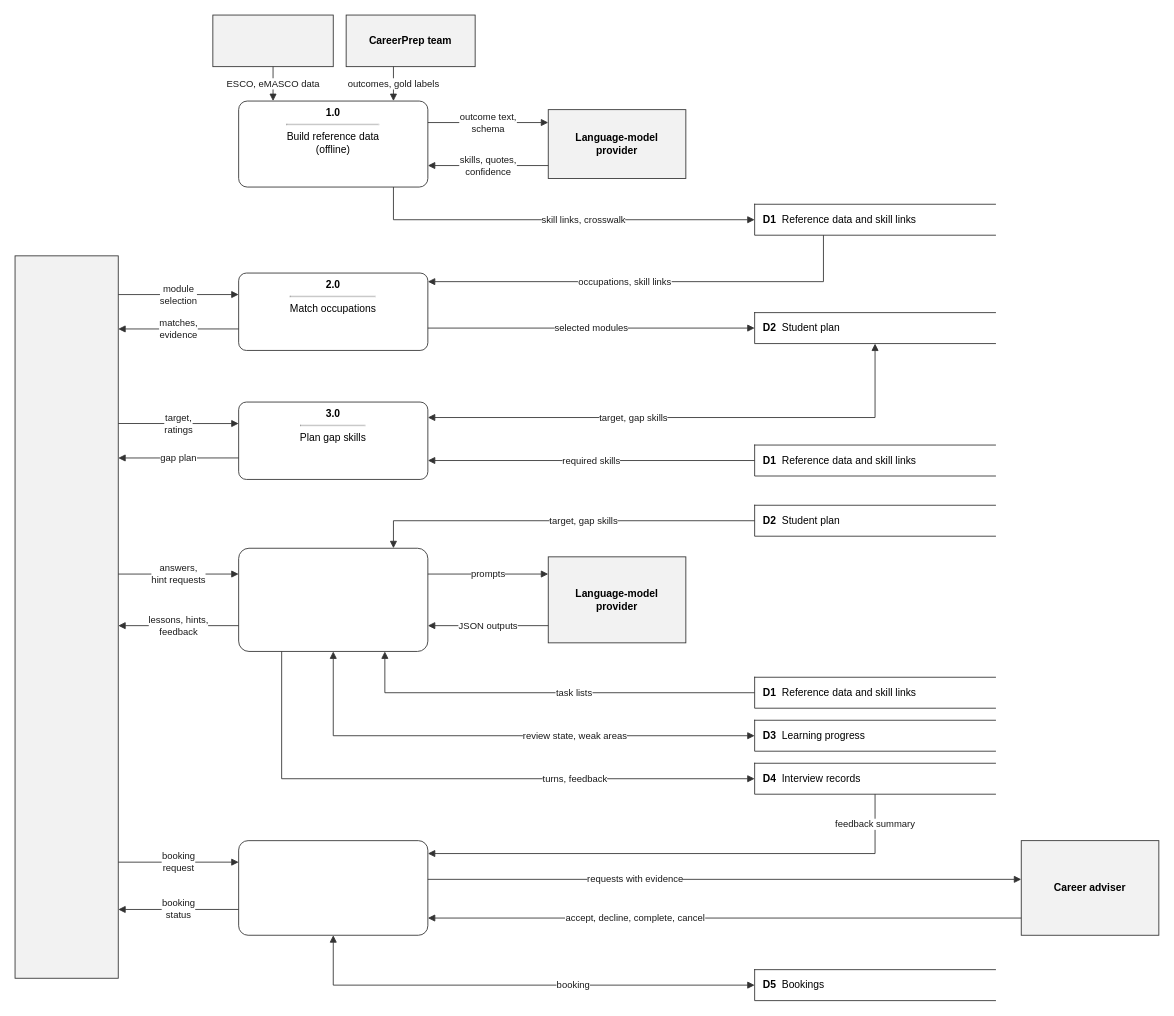
The diagram is 1174 pixels wide and 1016 high, and some of its shapes have lost their labels. The box of each missing label's shape, as (x1, y1, x2, y2) in pixels:
4.0 Run practice and mock interviews: (238, 547, 428, 651)
5.0 Handle adviser bookings: (238, 840, 428, 935)
Diploma student: (14, 255, 118, 978)
Reference data sources: (212, 14, 333, 67)
